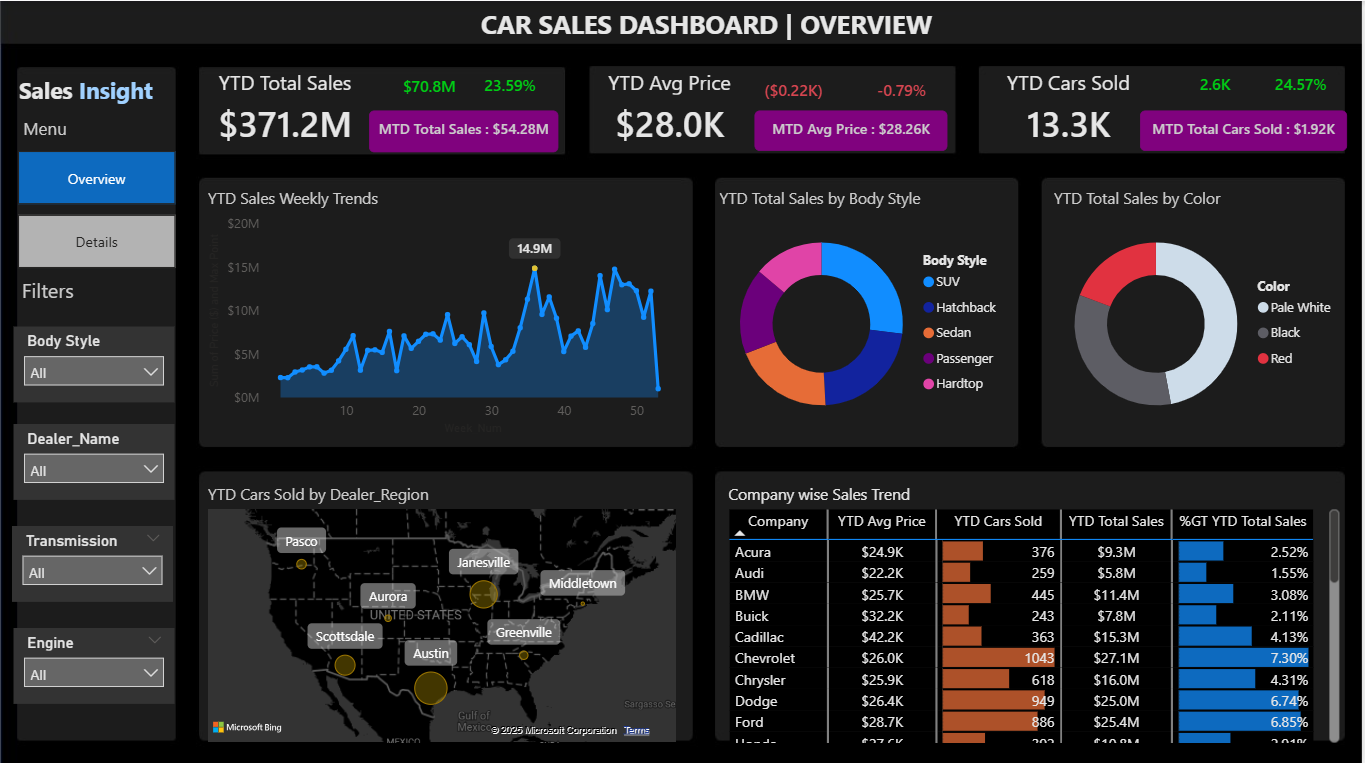

The dashboard page shown, as its layout file describes it:
{"tool":"powerbi","page":{"name":"Overview","canvas":[1280,720],"ordinal":0},"visuals":[{"type":"card","title":"YTD Total Sales","fields":{"Values":["car_data.YTD Total Sales"]},"box":[189.1,64.1,157.9,78.1],"z":0},{"type":"card","fields":{"Values":["car_data.Sales Difference"]},"box":[345.8,58.6,115.3,45.4],"z":1000},{"type":"card","fields":{"Values":["car_data.YOY Sales Growth"]},"box":[432.9,57.8,92.2,45.3],"z":2000},{"type":"card","fields":{"Values":["car_data.MTD KPI"]},"box":[347,103.2,178.2,39.1],"z":3000},{"type":"card","title":"YTD Avg Price","fields":{"Values":["car_data.YTD Avg Price"]},"box":[548.1,63.3,161.6,78.3],"z":4000},{"type":"card","fields":{"Values":["car_data.Avg Price diff"]},"box":[688,63.3,115,45],"z":5000},{"type":"card","fields":{"Values":["car_data.YOY Avg Price Growth"]},"box":[789.7,63.3,115,45],"z":6000},{"type":"card","fields":{"Values":["car_data.MTD Avg Price KPI"]},"box":[709.7,103.3,181.6,38.3],"z":7000},{"type":"card","title":"YTD Cars Sold","fields":{"Values":["car_data.YTD Cars Sold"]},"box":[922.9,63.3,161.6,78.3],"z":8000},{"type":"card","fields":{"Values":["car_data.Cars Sold diff"]},"box":[1084.5,58.3,115,45],"z":9000},{"type":"card","fields":{"Values":["car_data.YOY Cars Sold Growth"]},"box":[1164.5,58.3,115,45],"z":10000},{"type":"card","fields":{"Values":["car_data.MTD Total Cars  Sold KPI"]},"box":[1071.2,103.3,194.9,38.3],"z":11000},{"type":"areaChart","title":"YTD Sales Weekly Trends","fields":{"Category":["Calender_Table.Week_Num"],"Y":["Sum(car_data.Price ($))","car_data.Max Point"]},"box":[189.9,174.9,449.8,236.6],"z":12000},{"type":"donutChart","fields":{"Category":["car_data.Body Style"],"Y":["car_data.YTD Total Sales"]},"box":[671.6,174.8,279.3,236.7],"z":13000},{"type":"donutChart","fields":{"Y":["car_data.YTD Total Sales"],"Category":["car_data.Color"]},"box":[985.1,174.8,279.3,236.7],"z":14000},{"type":"map","fields":{"Category":["car_data.Dealer_Region"],"Size":["car_data.YTD Cars Sold"]},"box":[189.8,452,449.9,249.5],"z":15000},{"type":"tableEx","title":"Company wise Sales Trend","fields":{"Values":["car_data.Company","car_data.YTD Avg Price","car_data.YTD Cars Sold","car_data.YTD Total Sales1","car_data.YTD Total Sales"]},"box":[680.2,452,584.2,249.5],"z":16000},{"type":"textbox","box":[447,0,450.1,43.8],"z":17000},{"type":"slicer","fields":{"Values":["car_data.Body Style"]},"box":[13.3,306.5,151.6,71.6],"z":18000},{"type":"slicer","fields":{"Values":["car_data.Dealer_Name"]},"box":[13.3,398.2,151.6,71.6],"z":19000},{"type":"slicer","fields":{"Values":["car_data.Transmission"]},"box":[11.7,493.1,151.6,71.6],"z":20000},{"type":"slicer","fields":{"Values":["car_data.Engine"]},"box":[13.3,589.7,151.6,71.6],"z":21000},{"type":"textbox","box":[15,253.2,116.6,40],"z":22000},{"type":"textbox","box":[13.3,63.3,151.6,58.3],"z":23000},{"type":"textbox","box":[17.2,103.2,70.3,39.1],"z":24000},{"type":"pageNavigator","box":[16.7,141.6,148.3,111.6],"z":25000}]}

Visuals, with their boxes in screenshot pixels (x1, y1, x2, y2), scaled from the page's 1280x720 canvas onto the 1365x763 screenshot:
"YTD Total Sales" card: 202 68 370 151
card - car_data.Sales Difference: 369 62 492 110
card - car_data.YOY Sales Growth: 462 61 560 109
card - car_data.MTD KPI: 370 109 560 151
"YTD Avg Price" card: 584 67 757 150
card - car_data.Avg Price diff: 734 67 856 115
card - car_data.YOY Avg Price Growth: 842 67 965 115
card - car_data.MTD Avg Price KPI: 757 109 950 150
"YTD Cars Sold" card: 984 67 1157 150
card - car_data.Cars Sold diff: 1157 62 1279 109
card - car_data.YOY Cars Sold Growth: 1242 62 1364 109
card - car_data.MTD Total Cars  Sold KPI: 1142 109 1350 150
"YTD Sales Weekly Trends" areaChart: 203 185 682 436
donutChart - car_data.Body Style x car_data.YTD Total Sales: 716 185 1014 436
donutChart - car_data.YTD Total Sales x car_data.Color: 1051 185 1348 436
map - car_data.Dealer_Region x car_data.YTD Cars Sold: 202 479 682 743
"Company wise Sales Trend" tableEx: 725 479 1348 743
textbox: 477 0 957 46
slicer - car_data.Body Style: 14 325 176 401
slicer - car_data.Dealer_Name: 14 422 176 498
slicer - car_data.Transmission: 12 523 174 598
slicer - car_data.Engine: 14 625 176 701
textbox: 16 268 140 311
textbox: 14 67 176 129
textbox: 18 109 93 151
pageNavigator: 18 150 176 268
